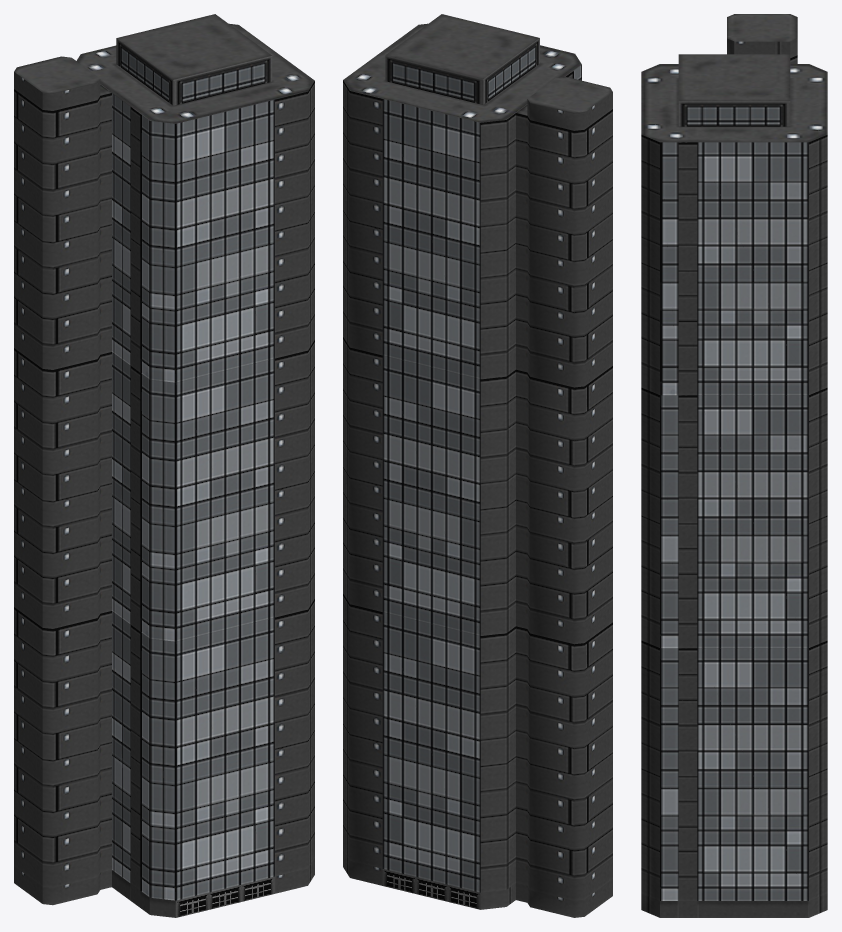
Rendered from skyscrap21.glb.
3 views of the same model, side by side, from view 1: azimuth 30°, elevation 25°; view 2: azimuth 150°, elevation 25°; view 3: azimuth 270°, elevation 25° (orthographic). The views are drawn at different scales.
Parts seen in each view (by area): view 1: sk21; view 2: sk21; view 3: sk21.
Boxes of the visible parts, box(x1,y1,x2,y2) form: sk21: box(14, 14, 314, 917); sk21: box(343, 14, 612, 917); sk21: box(641, 14, 827, 917).
Size of the model in its own units: 16.58 by 55.47 by 11.68.
Materials: 1 (1 with a texture image).
